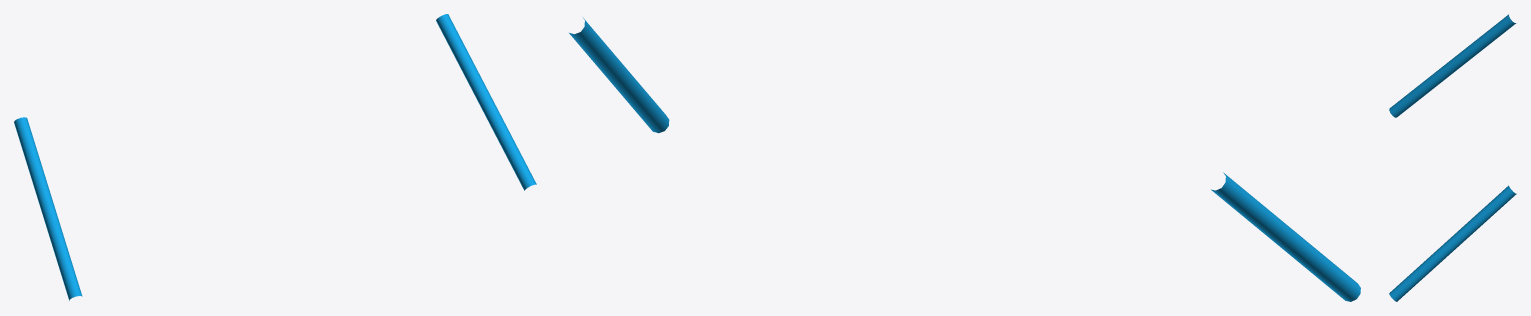
Rendered from c_pillar.glb.
3 views of the same model, side by side, from view 1: azimuth 30°, elevation 25°; view 2: azimuth 150°, elevation 25°; view 3: azimuth 270°, elevation 25° (orthographic). The views are drawn at different scales.
Visible parts, largest first — view 1: C_Pillar_Fastback_RH, C_Pillar_Fastback_LH; view 2: C_Pillar_Fastback_LH, C_Pillar_Fastback_RH; view 3: C_Pillar_Fastback_RH, C_Pillar_Fastback_LH.
Part boxes in pixels (<box>): C_Pillar_Fastback_RH: <box>436,14,536,190</box>; C_Pillar_Fastback_LH: <box>14,117,82,300</box>; C_Pillar_Fastback_LH: <box>1211,172,1360,301</box>; C_Pillar_Fastback_RH: <box>569,18,669,133</box>; C_Pillar_Fastback_RH: <box>1389,185,1516,301</box>; C_Pillar_Fastback_LH: <box>1389,14,1516,117</box>.
Bounding box in the file's own units: 1.68 × 0.4515 × 0.4795.
